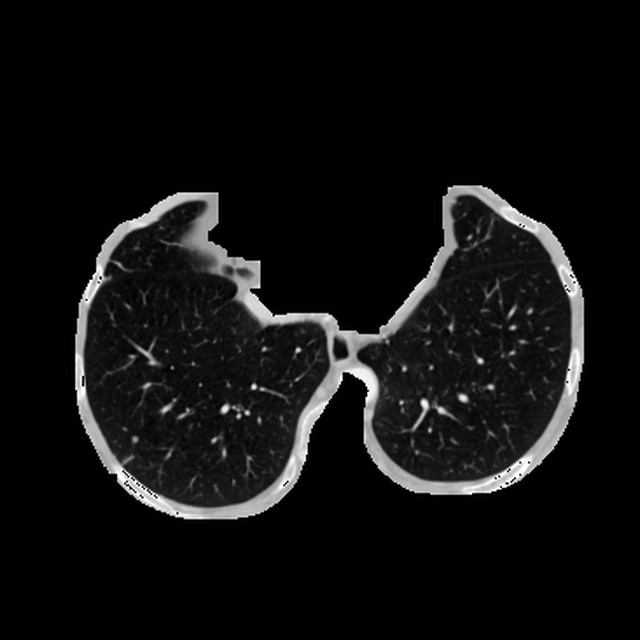PN: (131, 435, 138, 442)
